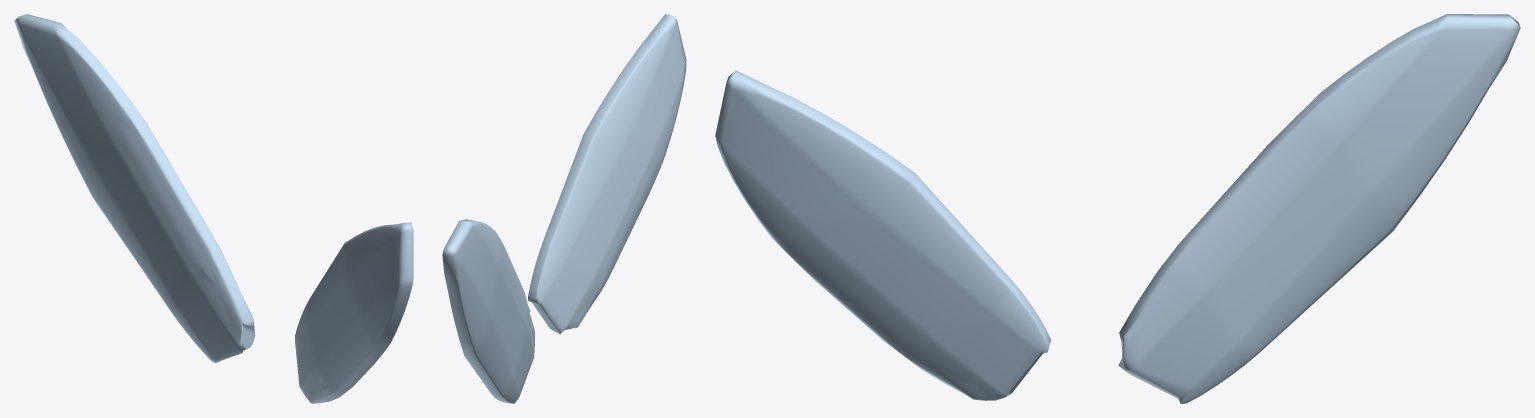
File: navyala1.obj
The picture shows the model from 3 angles, left to right: view 1: azimuth 30°, elevation 25°; view 2: azimuth 150°, elevation 25°; view 3: azimuth 270°, elevation 25°; orthographic projection. The views are drawn at different scales.
Parts seen in each view (by area): view 1: pasted__pCube1 group1, pCube1; view 2: pCube1, pasted__pCube1 group1; view 3: pasted__pCube1 group1, pCube1.
Part boxes in pixels (x1,y1,x2,y2): pasted__pCube1 group1: (14, 14, 255, 362); pCube1: (295, 222, 413, 403); pCube1: (528, 14, 686, 334); pasted__pCube1 group1: (442, 219, 534, 403); pasted__pCube1 group1: (1118, 14, 1520, 403); pCube1: (715, 70, 1050, 400).
Bounding box in the file's own units: 0.7633 × 1.82 × 3.78.
Materials: 2 (2 with a texture image).
